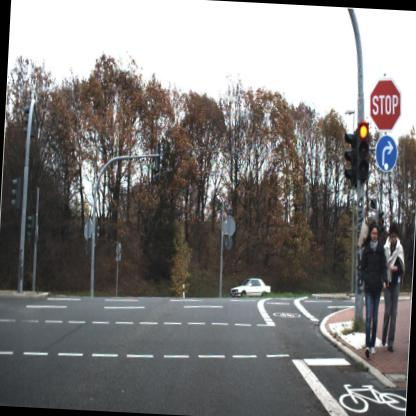mandatory: (370, 132, 401, 178)
other: (366, 70, 406, 132)
